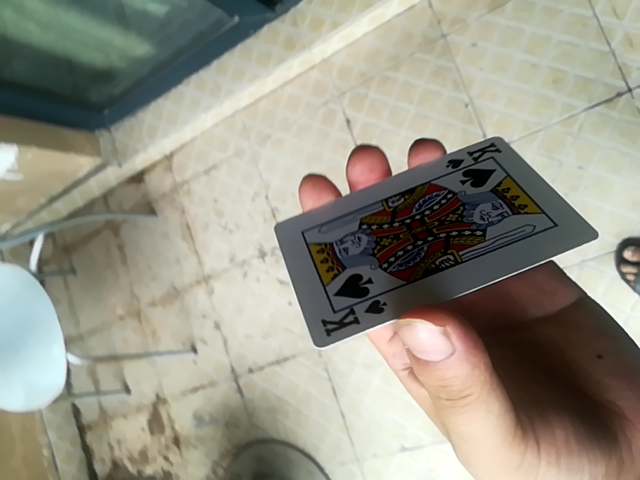ht k: (273, 126, 605, 359)
